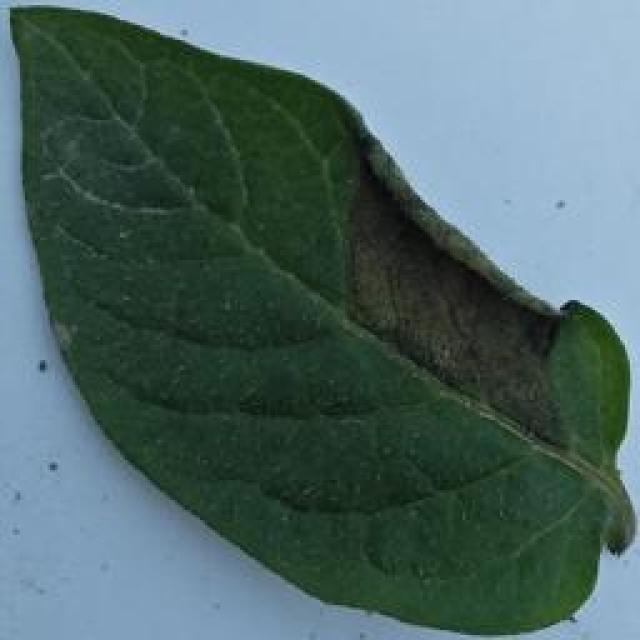Potato_Late_Blight: (7, 10, 618, 628)
